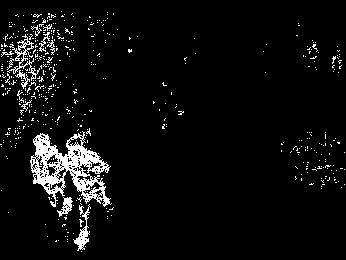person: (64, 133, 113, 247), (31, 133, 74, 226)
